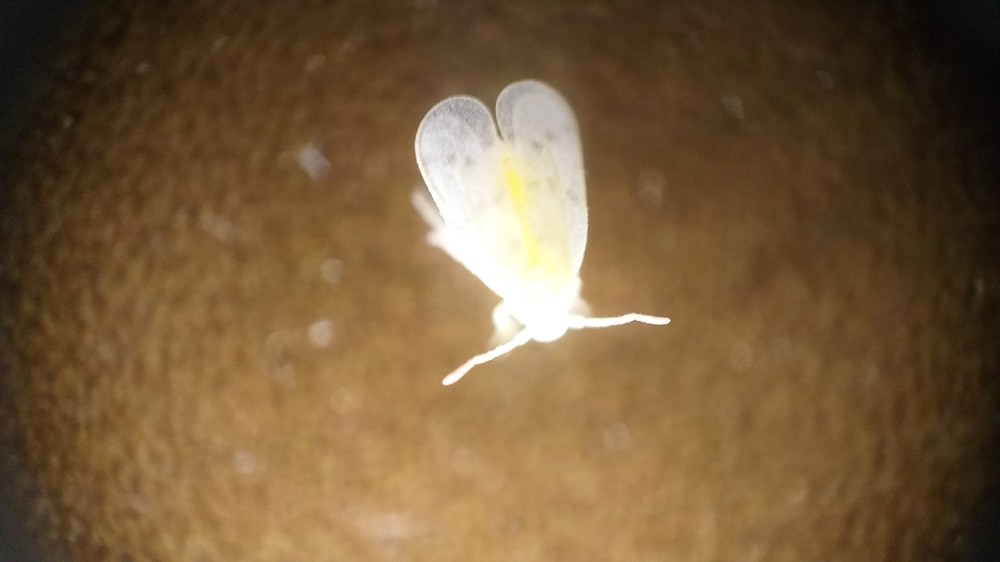Mosca Blanca: (388, 73, 683, 410)
